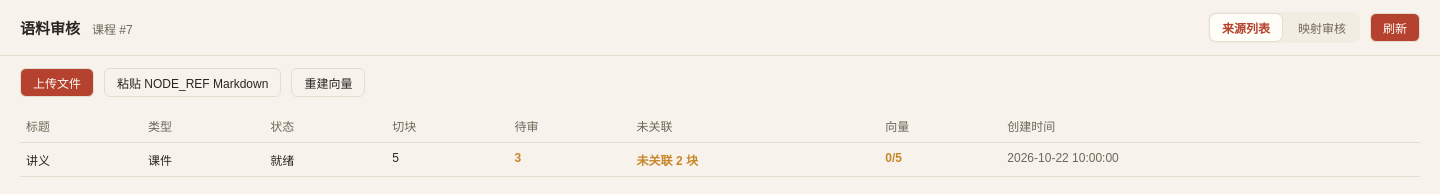
Test case: TeacherRag 向量覆盖与重建（R2） › 点击「重建向量」→ reembedRagCourse(课程) 并提示作业数，随后刷新列表
Click the button with test id "reembed" at [328, 82], box left=291, top=68, right=365, bottom=97
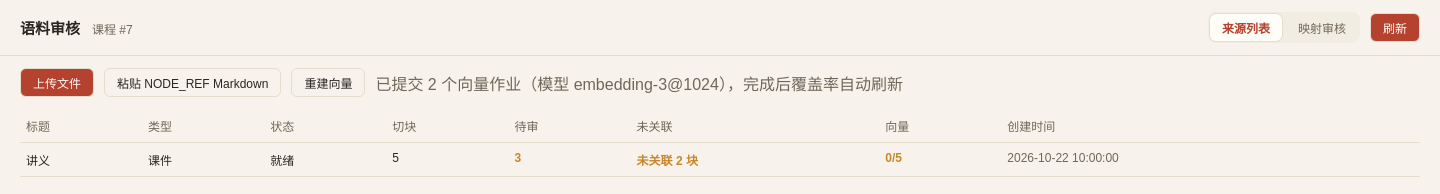
Check: the message with test id "reembed-notice" shows "2", box left=375, top=76, right=903, bottom=92
Check: the message with test id "reembed-notice" shows "embedding-3@1024", box left=375, top=76, right=903, bottom=92
